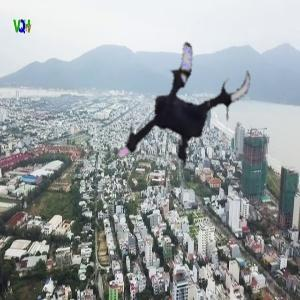drone: (98, 22, 260, 184)
